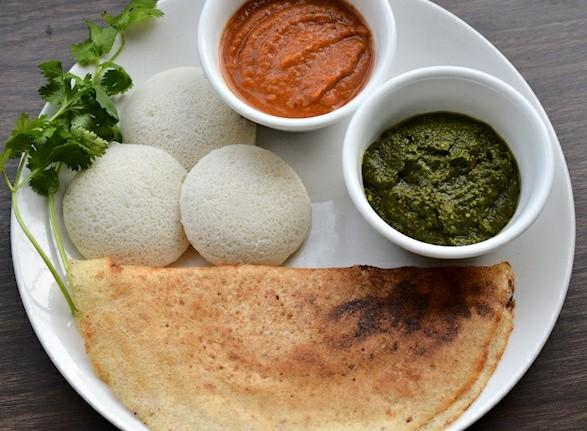Dosa: (67, 257, 514, 431)
GreenChutney: (364, 110, 520, 246)
Idli: (181, 142, 315, 271), (63, 144, 194, 268), (119, 66, 259, 167)
